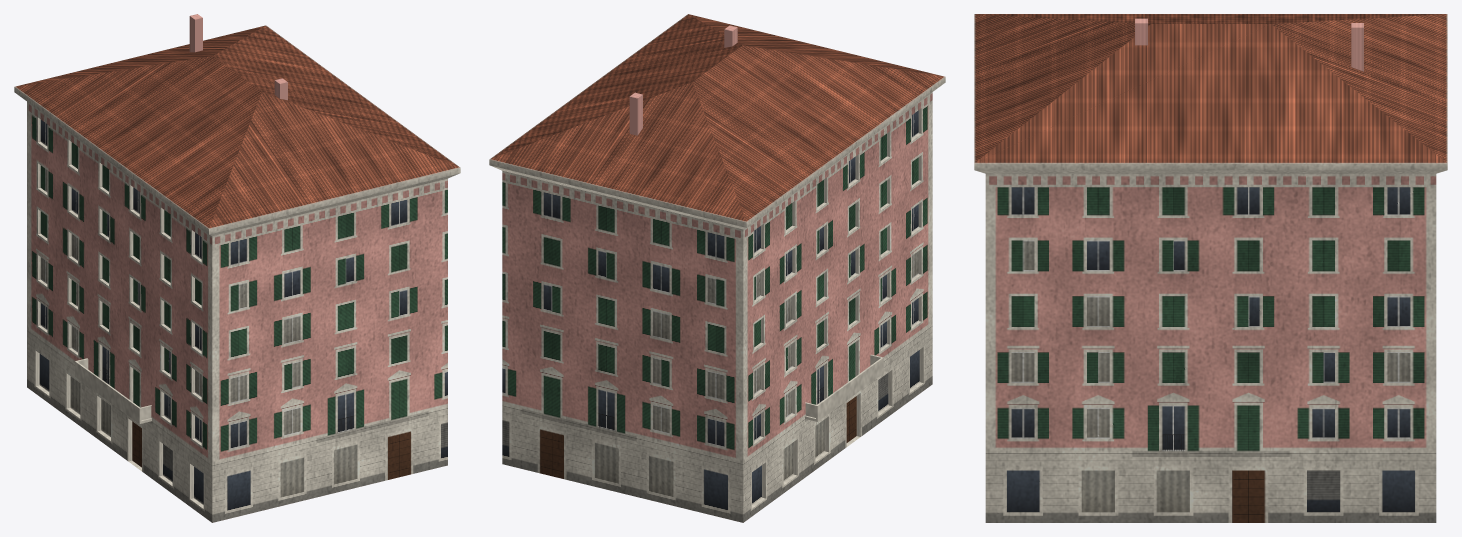
File: SM_Fondale_Palazzo_B_LOD1.fbx
3 views of the same model, side by side, from view 1: azimuth 30°, elevation 25°; view 2: azimuth 150°, elevation 25°; view 3: azimuth 270°, elevation 25° (orthographic). The views are drawn at different scales.
Parts seen in each view (by area): view 1: SM_Fondale_Palazzo_B_LOD1; view 2: SM_Fondale_Palazzo_B_LOD1; view 3: SM_Fondale_Palazzo_B_LOD1.
Boxes of the visible parts, x1,y1,x2,y2 form: SM_Fondale_Palazzo_B_LOD1: [14, 14, 460, 522]; SM_Fondale_Palazzo_B_LOD1: [489, 14, 945, 522]; SM_Fondale_Palazzo_B_LOD1: [974, 14, 1447, 522].
Size of the model in its own units: 1957 by 2574 by 2647.
Materials: 1 (1 with a texture image).
